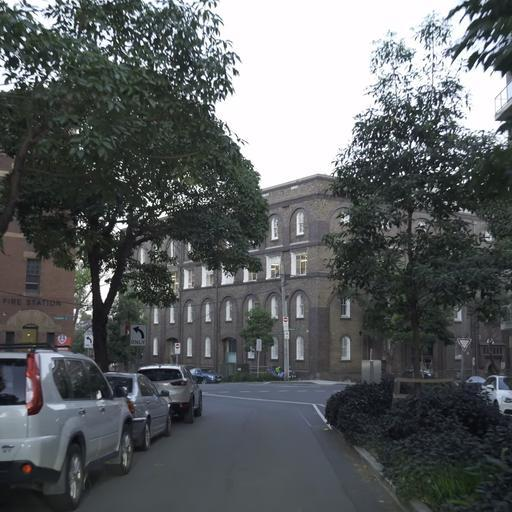Street light: (273, 265, 291, 380), (174, 258, 193, 364)
